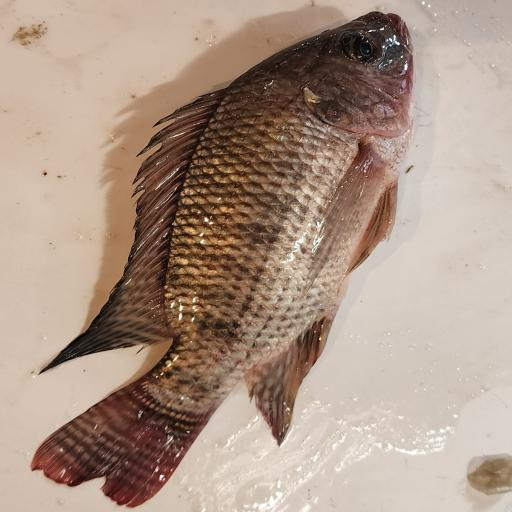Tilapia: (31, 11, 417, 508)
